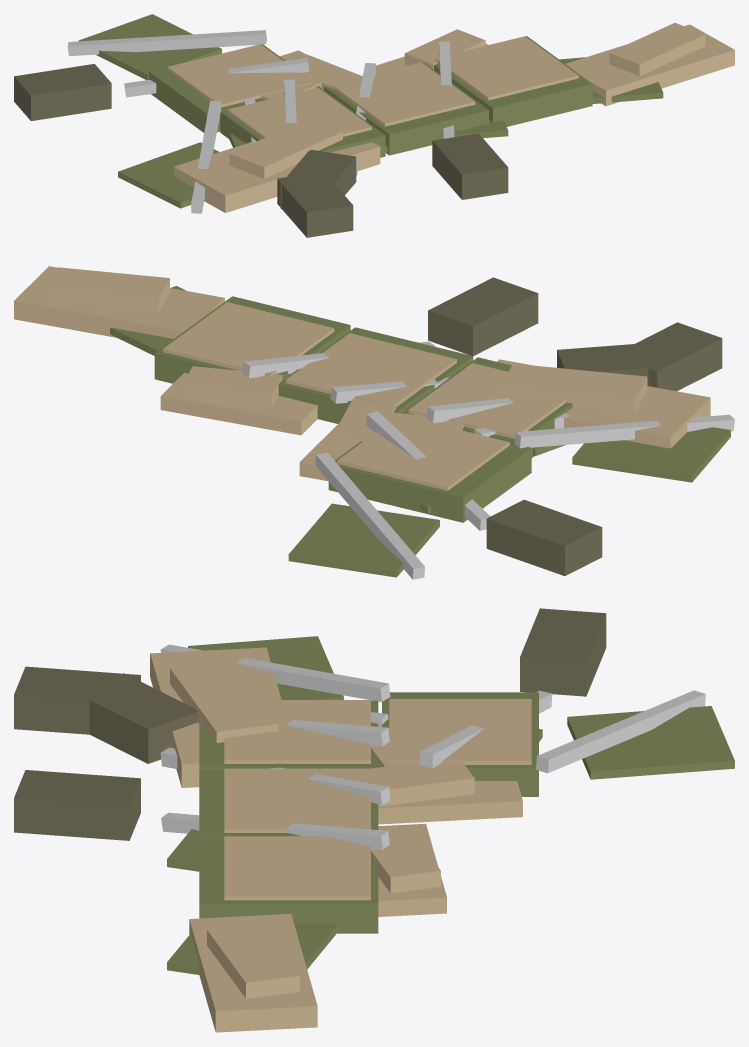
The model's file is SM_HescoRemate_v3_RemateSacos_e3_Brecha_LOD1.fbx.
The picture shows the model from 3 angles, top to bottom: view 1: azimuth 30°, elevation 25°; view 2: azimuth 150°, elevation 25°; view 3: azimuth 270°, elevation 25°; orthographic projection. The views are drawn at different scales.
Parts seen in each view (by area): view 1: SM_hesco_piezas_v35_LOD1; view 2: SM_hesco_piezas_v35_LOD1; view 3: SM_hesco_piezas_v35_LOD1.
Part boxes in pixels (x1=…): SM_hesco_piezas_v35_LOD1: x1=14, y1=14, x2=734, y2=237; SM_hesco_piezas_v35_LOD1: x1=14, y1=266, x2=734, y2=579; SM_hesco_piezas_v35_LOD1: x1=14, y1=608, x2=734, y2=1032.
Bounding box in the file's own units: 6.29 × 0.351 × 4.92.
